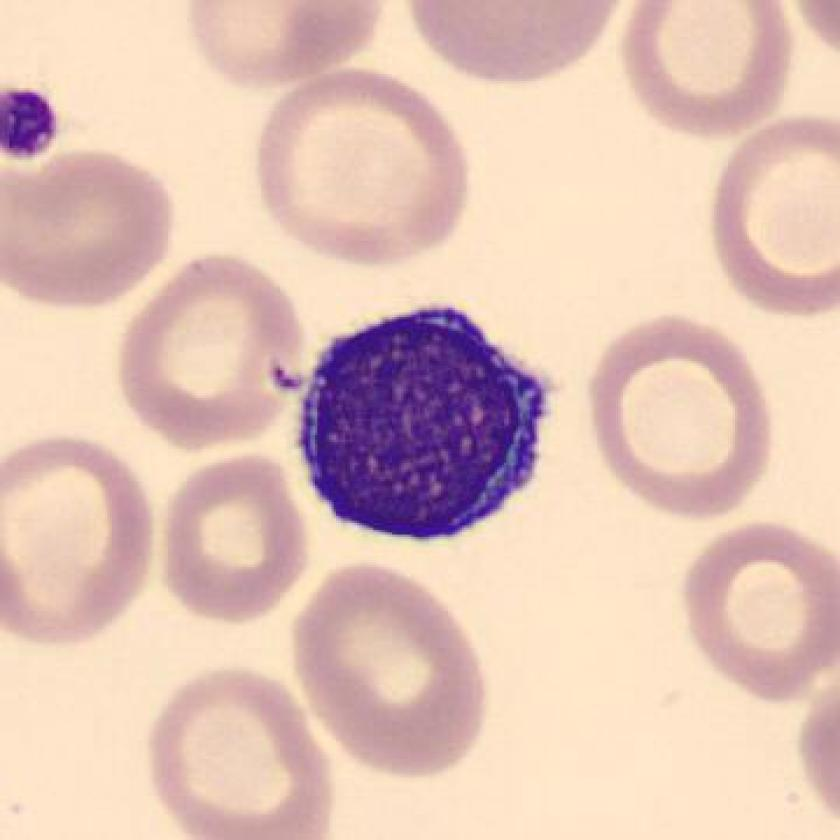lymphocyte: (267, 283, 566, 561)
platelets: (1, 87, 69, 168)
